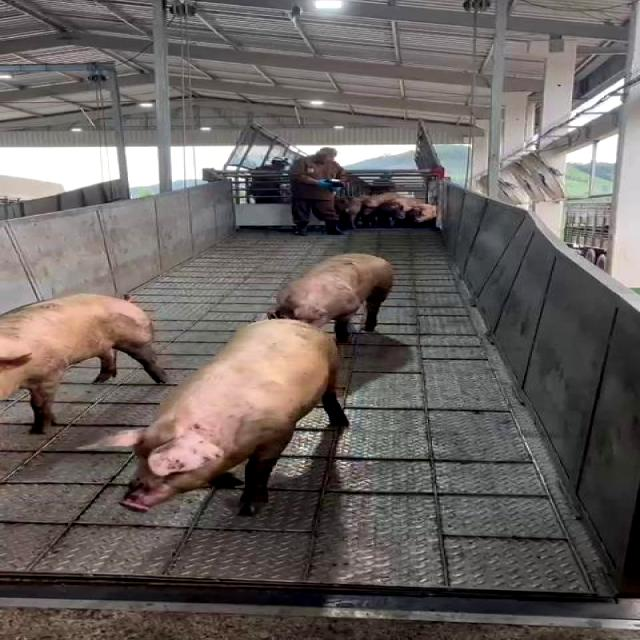pig: (85, 319, 348, 514), (95, 319, 347, 514), (1, 295, 165, 432), (272, 254, 392, 340)
